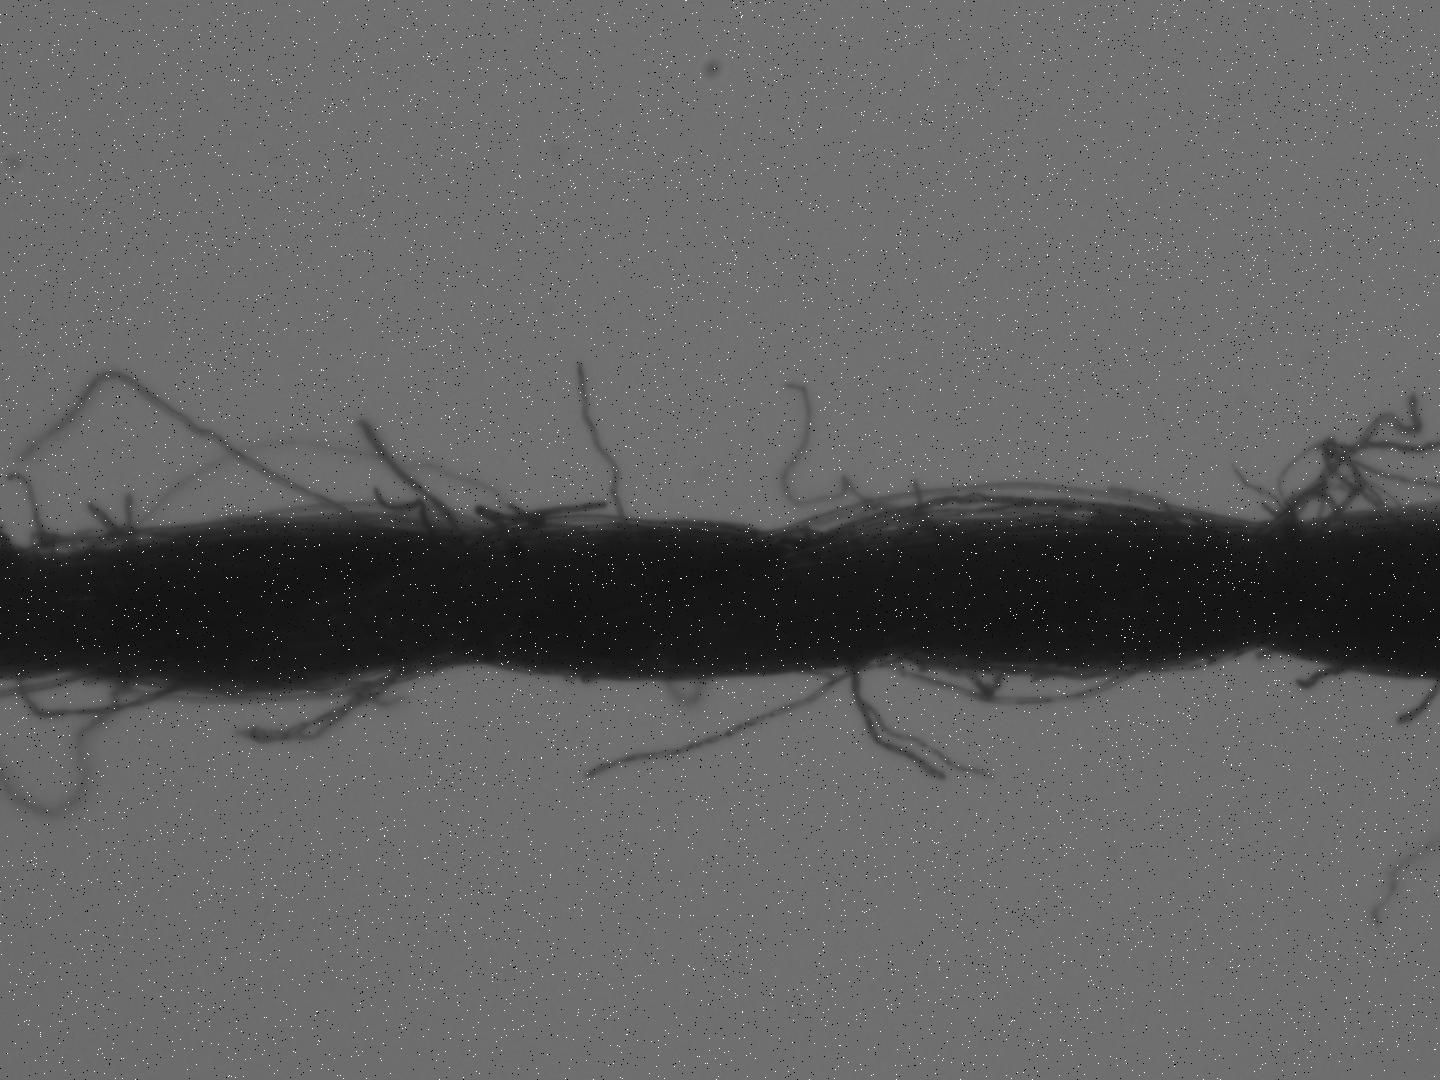loop_fiber: (755, 483, 1191, 542), (240, 663, 449, 746), (1252, 433, 1397, 532), (890, 660, 1129, 707), (14, 663, 187, 723), (15, 524, 189, 556), (966, 663, 1018, 708), (661, 674, 713, 710)
protruding_fiber: (578, 653, 869, 785), (575, 357, 634, 524), (1297, 658, 1365, 695)
